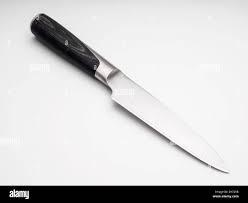Knife: (29, 12, 230, 174)
